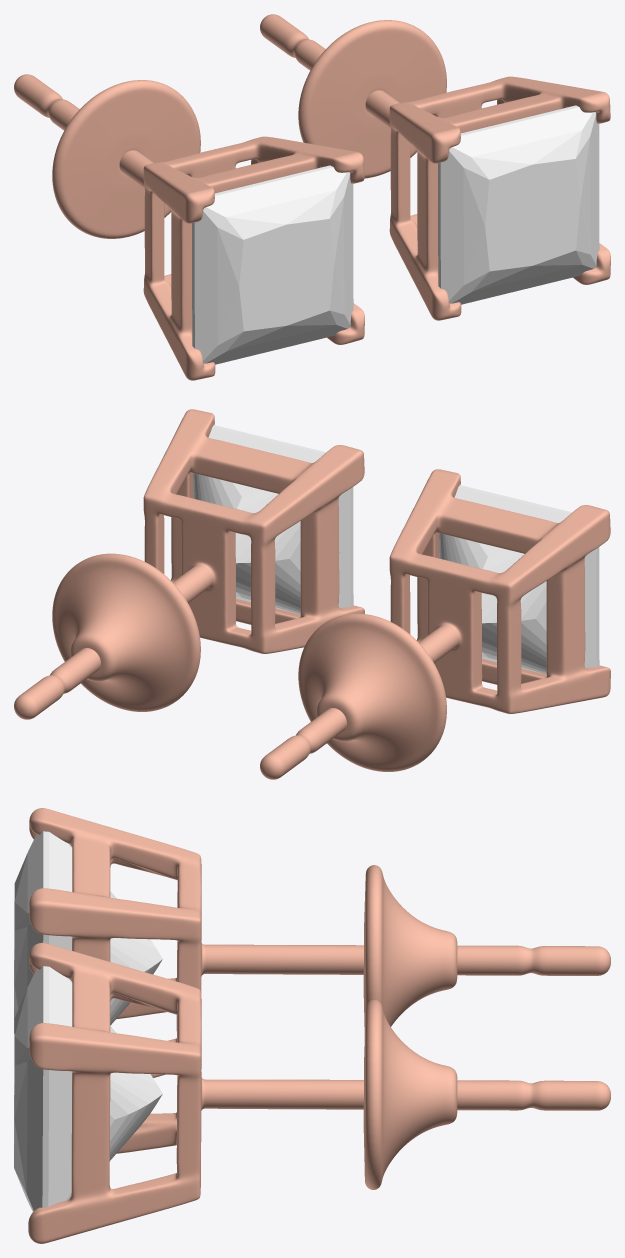
Rendered from studearring.glb.
The picture shows the model from 3 angles, top to bottom: view 1: azimuth 30°, elevation 25°; view 2: azimuth 150°, elevation 25°; view 3: azimuth 270°, elevation 25°; orthographic projection. The views are drawn at different scales.
Parts seen in each view (by area): view 1: Stud_Rhino_43dm, Diamond_Princess, Diamond_Princess_1; view 2: Stud_Rhino_43dm, Diamond_Princess_1, Diamond_Princess; view 3: Stud_Rhino_43dm, Diamond_Princess_1, Diamond_Princess.
Part boxes in pixels (box(x1,y1,x2,y2)): Stud_Rhino_43dm: box(14, 14, 610, 380); Diamond_Princess: box(192, 165, 353, 364); Diamond_Princess_1: box(438, 105, 599, 304); Stud_Rhino_43dm: box(14, 409, 610, 779); Diamond_Princess_1: box(193, 425, 353, 614); Diamond_Princess: box(439, 485, 599, 674); Stud_Rhino_43dm: box(28, 808, 610, 1243); Diamond_Princess_1: box(14, 966, 162, 1211); Diamond_Princess: box(14, 831, 162, 1034).
Bounding box in the file's own units: 2.6 × 1.09 × 2.84.
